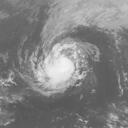cyclone: (23, 38, 90, 97)
